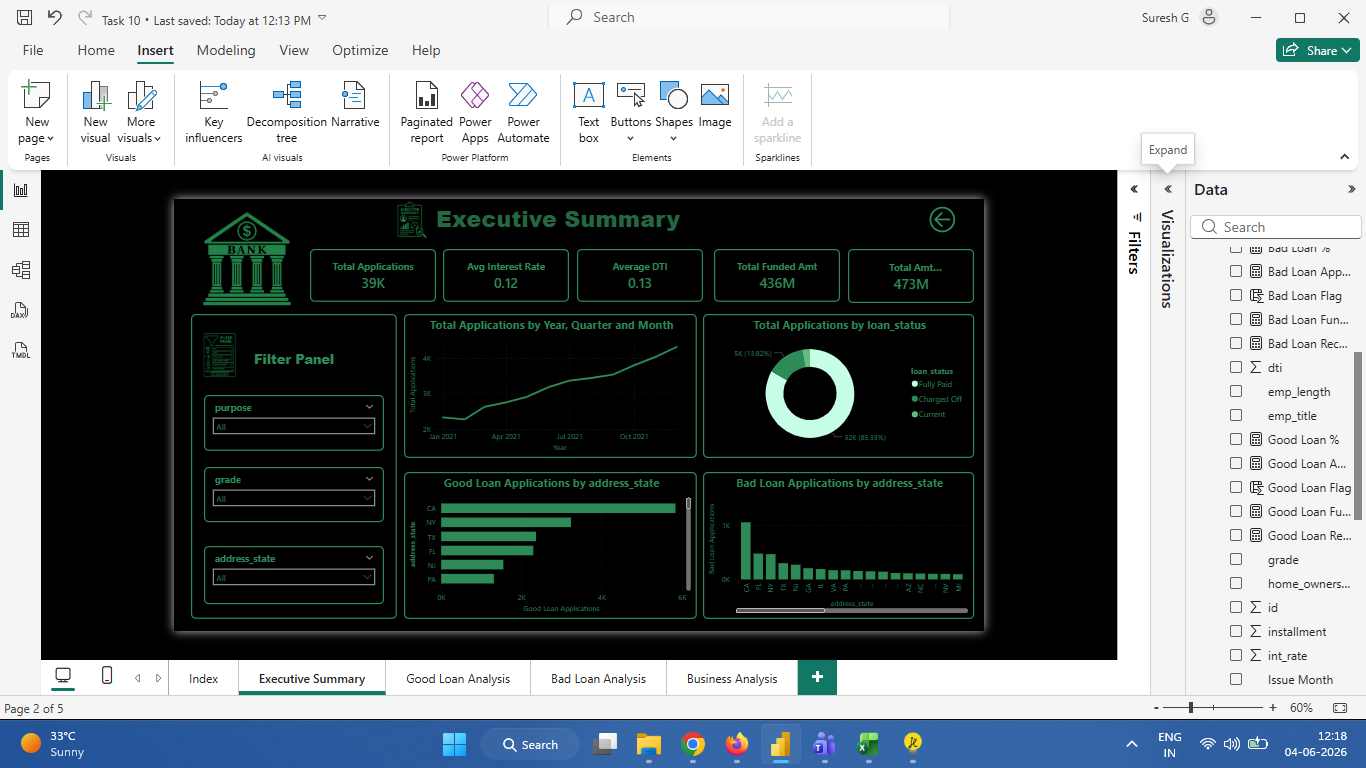

The page's visual inventory and layout, read from the dashboard file:
{"tool":"powerbi","page":{"name":"Executive Summary","canvas":[1350,720],"ordinal":1},"visuals":[{"type":"textbox","box":[0,0,1280,70],"z":0},{"type":"image","box":[0,0,243.3,206.7],"z":1},{"type":"image","box":[353.3,0,83.3,70],"z":2},{"type":"cardVisual","fields":{"Data":["financial_loan.Total Loan Applications"]},"box":[226.7,83.3,210,88.3],"z":3},{"type":"cardVisual","fields":{"Data":["financial_loan.Total Funded Amount"]},"box":[900,83.3,210,88.3],"z":4},{"type":"cardVisual","fields":{"Data":["financial_loan.Total Amount Received"]},"box":[1123.3,83.3,210,90],"z":5},{"type":"cardVisual","fields":{"Data":["financial_loan.Average Interest Rate"]},"box":[448.3,83.3,210,88.3],"z":6},{"type":"cardVisual","fields":{"Data":["financial_loan.Average DTI"]},"box":[671.7,83.3,210,88.3],"z":7},{"type":"lineChart","fields":{"Category":["financial_loan.issue_date.Variation.Date Hierarchy.Year","financial_loan.issue_date.Variation.Date Hierarchy.Quarter","financial_loan.issue_date.Variation.Date Hierarchy.Month","financial_loan.issue_date.Variation.Date Hierarchy.Day"],"Y":["financial_loan.Total Loan Applications"]},"box":[383.3,191.7,488.3,240],"z":8},{"type":"donutChart","fields":{"Category":["financial_loan.loan_status"],"Y":["financial_loan.Total Loan Applications"]},"box":[881.7,191.7,451.7,240],"z":9},{"type":"barChart","fields":{"Category":["financial_loan.address_state"],"Y":["financial_loan.Good Loan Applications"]},"box":[383.3,455,488.3,245],"z":10},{"type":"clusteredColumnChart","fields":{"Category":["financial_loan.address_state"],"Y":["financial_loan.Bad Loan Applications"]},"box":[881.7,455,451.7,245],"z":11},{"type":"textbox","box":[28.3,191.7,343.3,508.3],"z":12},{"type":"slicer","fields":{"Values":["financial_loan.purpose"]},"box":[50,326.7,300,93.3],"z":13},{"type":"slicer","fields":{"Values":["financial_loan.grade"]},"box":[50,446.7,300,91.7],"z":14},{"type":"slicer","fields":{"Values":["financial_loan.address_state"]},"box":[50,578.3,300,96.7],"z":15},{"type":"image","box":[28.3,220,96.7,80],"z":16},{"type":"actionButton","box":[1230,6.7,100,55],"z":17}]}

Visuals, with their boxes on the page's 1350x720 design canvas (x1, y1, x2, y2). These are canvas units, not pixel positions in the 1366x768 screenshot, which may show the page scaled, cropped or inside an application window:
textbox: {"x1": 0, "y1": 0, "x2": 1280, "y2": 70}
image: {"x1": 0, "y1": 0, "x2": 243, "y2": 207}
image: {"x1": 353, "y1": 0, "x2": 437, "y2": 70}
cardVisual - financial_loan.Total Loan Applications: {"x1": 227, "y1": 83, "x2": 437, "y2": 172}
cardVisual - financial_loan.Total Funded Amount: {"x1": 900, "y1": 83, "x2": 1110, "y2": 172}
cardVisual - financial_loan.Total Amount Received: {"x1": 1123, "y1": 83, "x2": 1333, "y2": 173}
cardVisual - financial_loan.Average Interest Rate: {"x1": 448, "y1": 83, "x2": 658, "y2": 172}
cardVisual - financial_loan.Average DTI: {"x1": 672, "y1": 83, "x2": 882, "y2": 172}
lineChart - financial_loan.issue_date.Variation.Date Hierarchy.Year x financial_loan.issue_date.Variation.Date Hierarchy.Quarter: {"x1": 383, "y1": 192, "x2": 872, "y2": 432}
donutChart - financial_loan.loan_status x financial_loan.Total Loan Applications: {"x1": 882, "y1": 192, "x2": 1333, "y2": 432}
barChart - financial_loan.address_state x financial_loan.Good Loan Applications: {"x1": 383, "y1": 455, "x2": 872, "y2": 700}
clusteredColumnChart - financial_loan.address_state x financial_loan.Bad Loan Applications: {"x1": 882, "y1": 455, "x2": 1333, "y2": 700}
textbox: {"x1": 28, "y1": 192, "x2": 372, "y2": 700}
slicer - financial_loan.purpose: {"x1": 50, "y1": 327, "x2": 350, "y2": 420}
slicer - financial_loan.grade: {"x1": 50, "y1": 447, "x2": 350, "y2": 538}
slicer - financial_loan.address_state: {"x1": 50, "y1": 578, "x2": 350, "y2": 675}
image: {"x1": 28, "y1": 220, "x2": 125, "y2": 300}
actionButton: {"x1": 1230, "y1": 7, "x2": 1330, "y2": 62}
